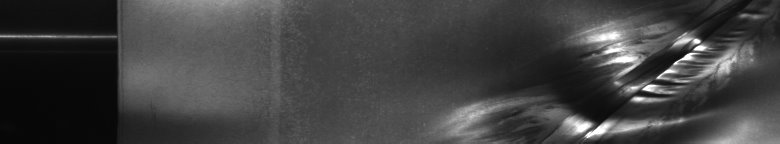ke: (476, 10, 767, 136)
